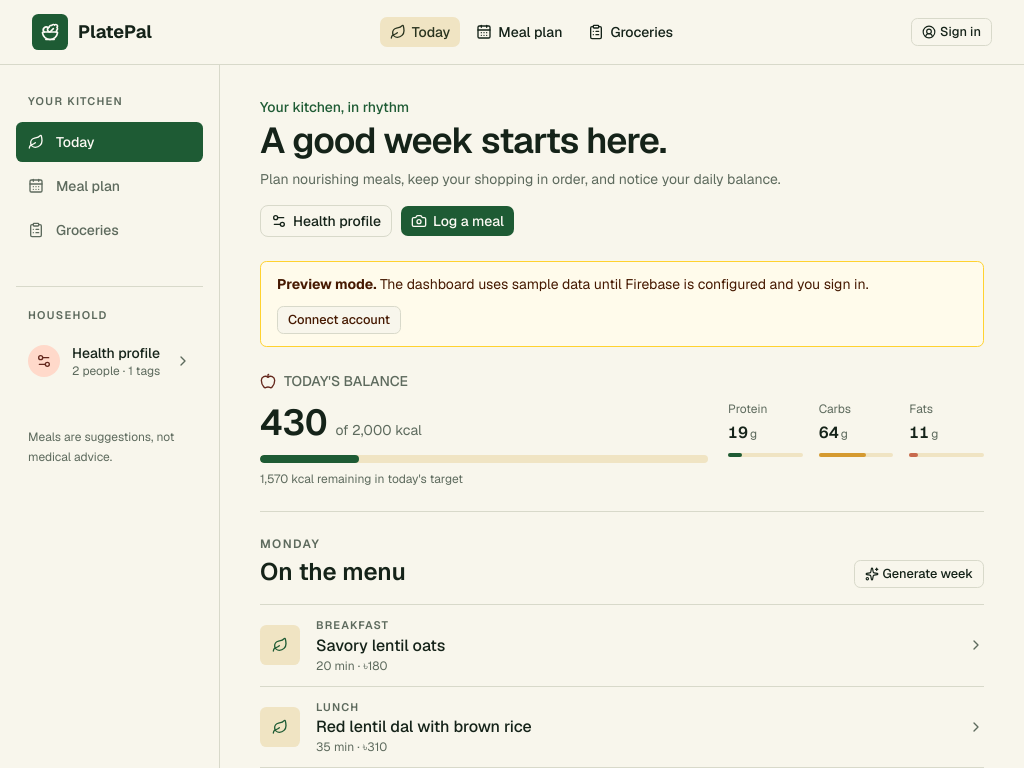
it: PlatePal dashboard › saves preview health profile values for the current session
Click the button "Health profile": (326,221) [260,205,392,237]
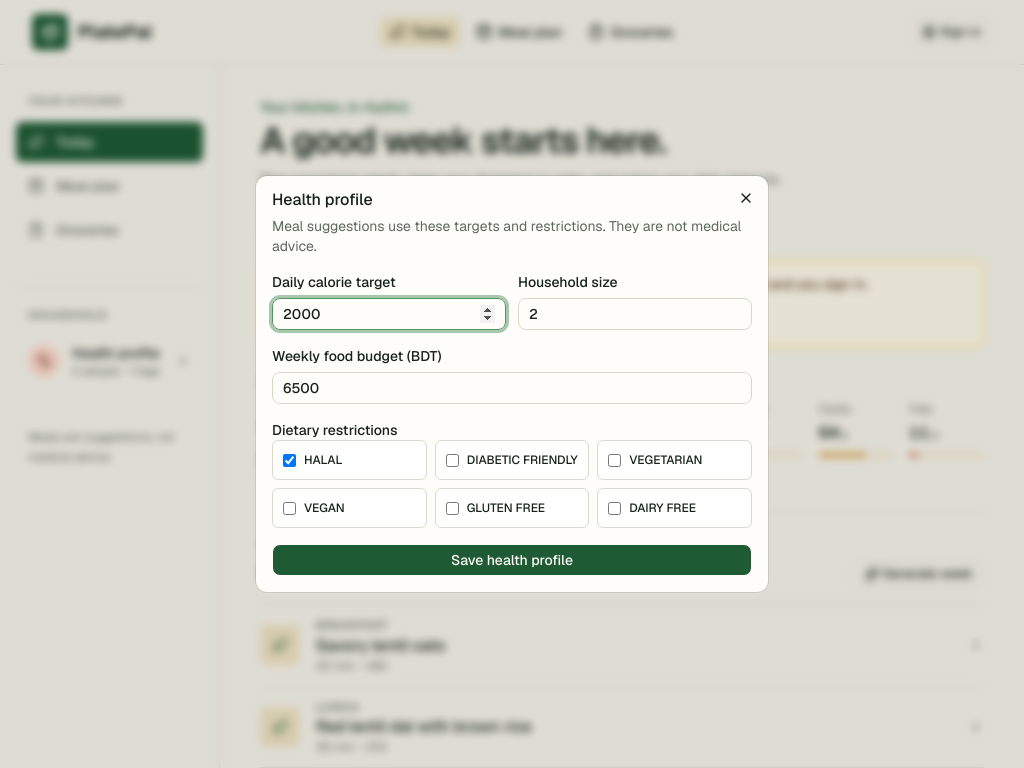
Replace the text in the number field labelled "Daily calorie target" with "2200": (389,314) [272,298,506,330]
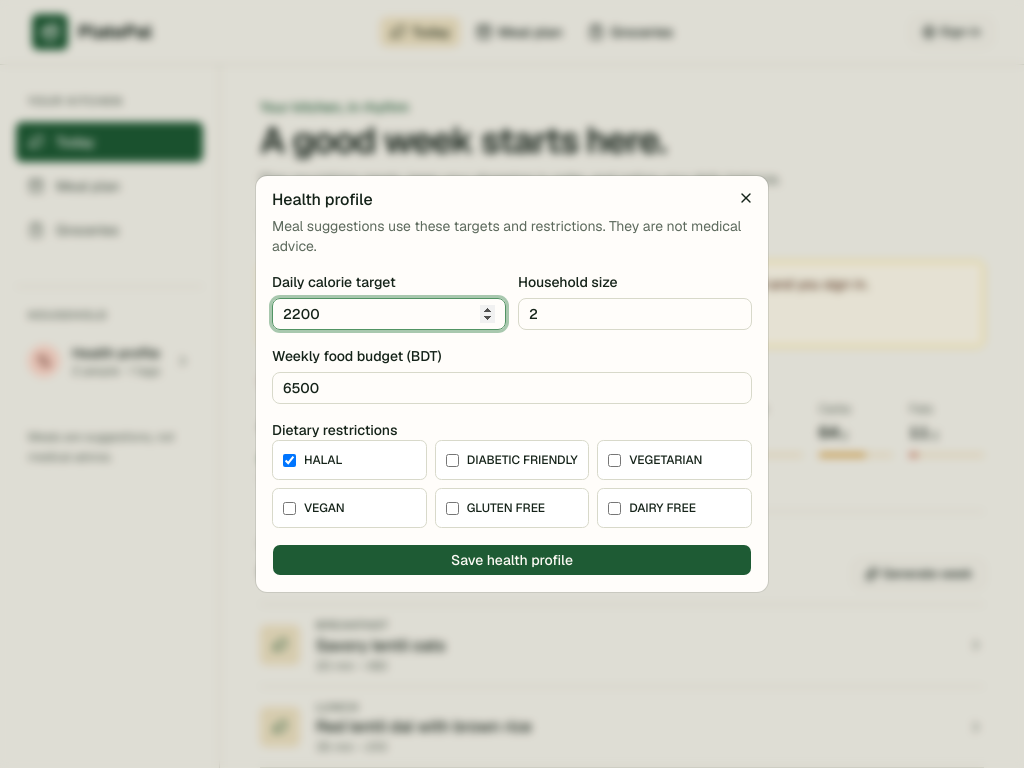
Click the button "Save health profile": (512,560) [272,544,752,576]
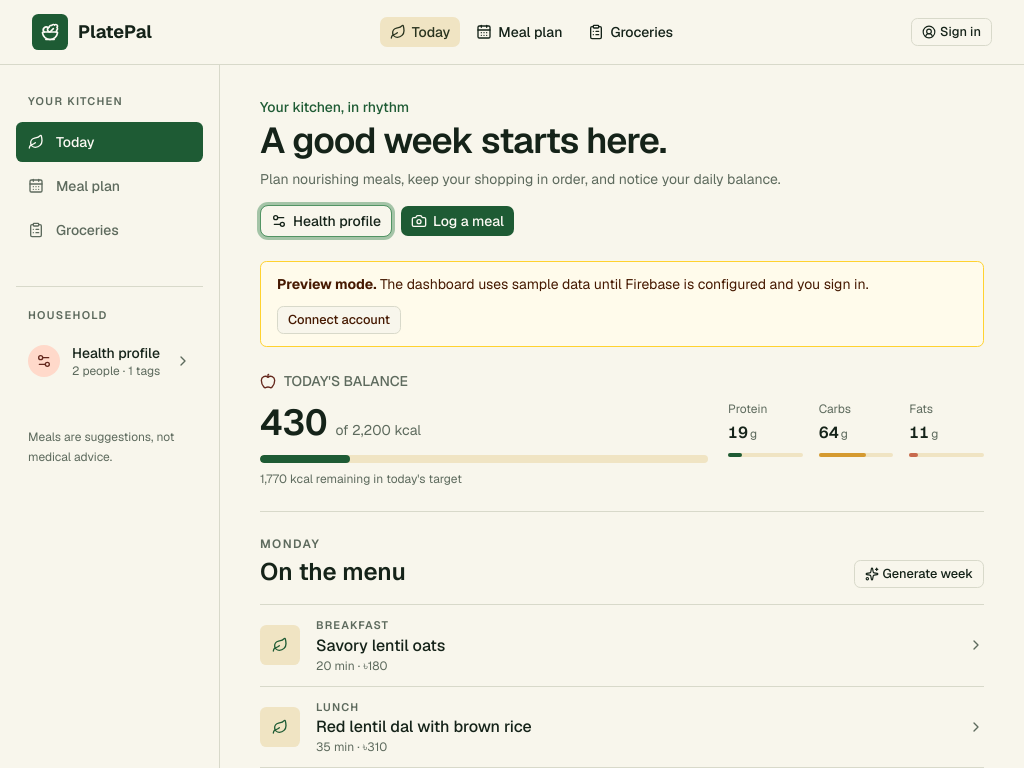
Check: the dialog is gone
Check: the text "of 2,200 kcal" is shown, box [335,420,421,440]
